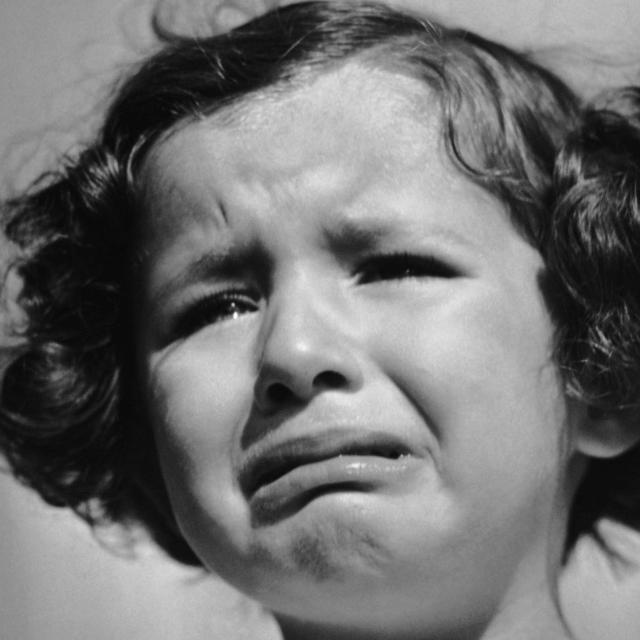Depress: (120, 64, 566, 617)
